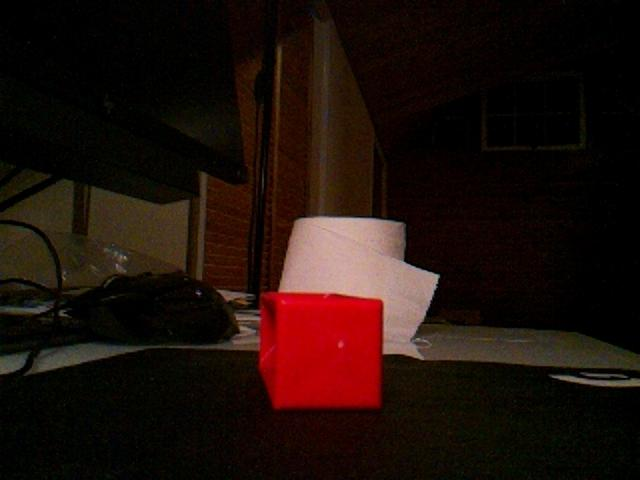red: (257, 290, 385, 412)
